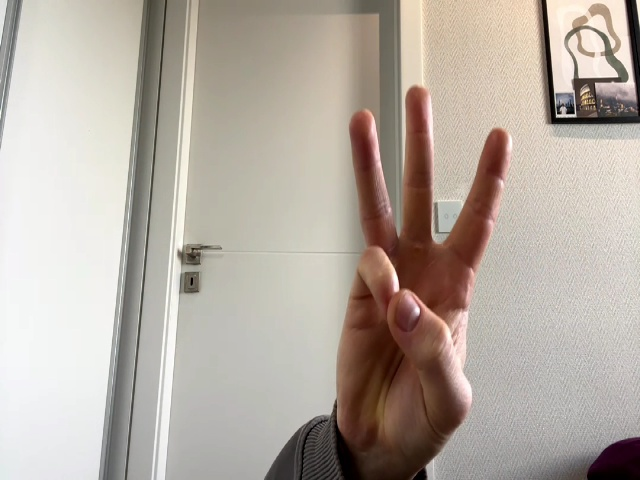W: (336, 85, 513, 449)
